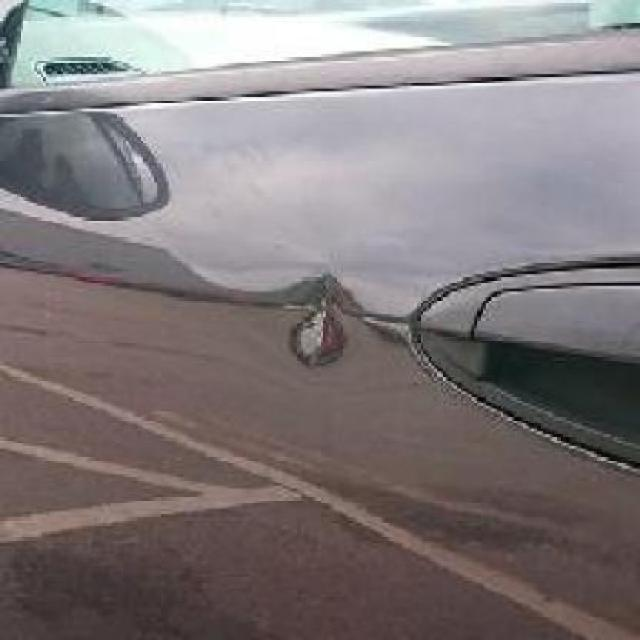dent-or-scratch: (279, 258, 364, 369)
